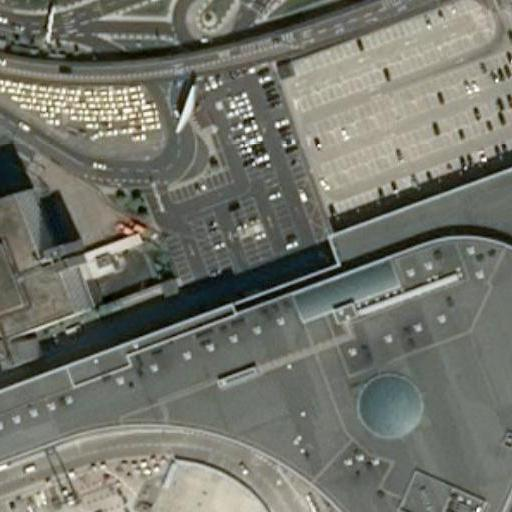Aircraft: (0, 505, 109, 512)
